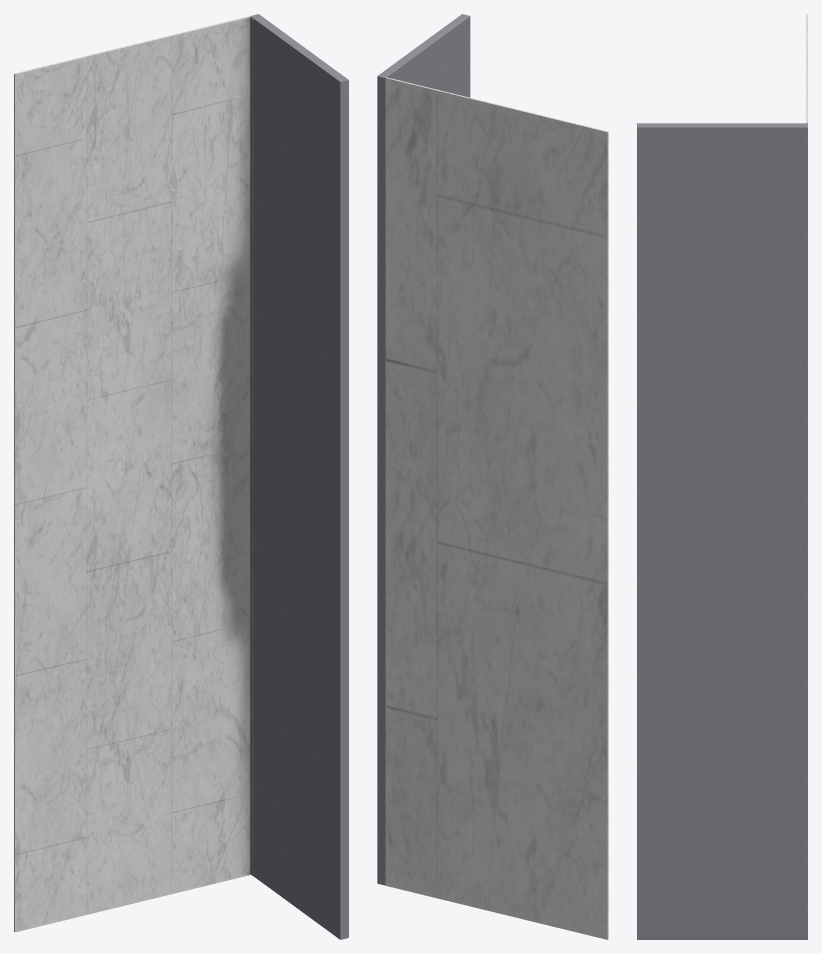
File: body_2.obj
3 views of the same model, side by side, from view 1: azimuth 30°, elevation 25°; view 2: azimuth 150°, elevation 25°; view 3: azimuth 270°, elevation 25° (orthographic). The views are drawn at different scales.
Visible parts, largest first — view 1: polySurface83_1008.002; view 2: polySurface83_1008.002; view 3: polySurface83_1008.002.
Boxes of the visible parts, <box> form: polySurface83_1008.002: <box>14,14,348,939</box>; polySurface83_1008.002: <box>377,14,608,939</box>; polySurface83_1008.002: <box>637,14,807,939</box>.
Bounding box in the file's own units: 48.88 × 164 × 31.2.
1 material, 1 textured.
